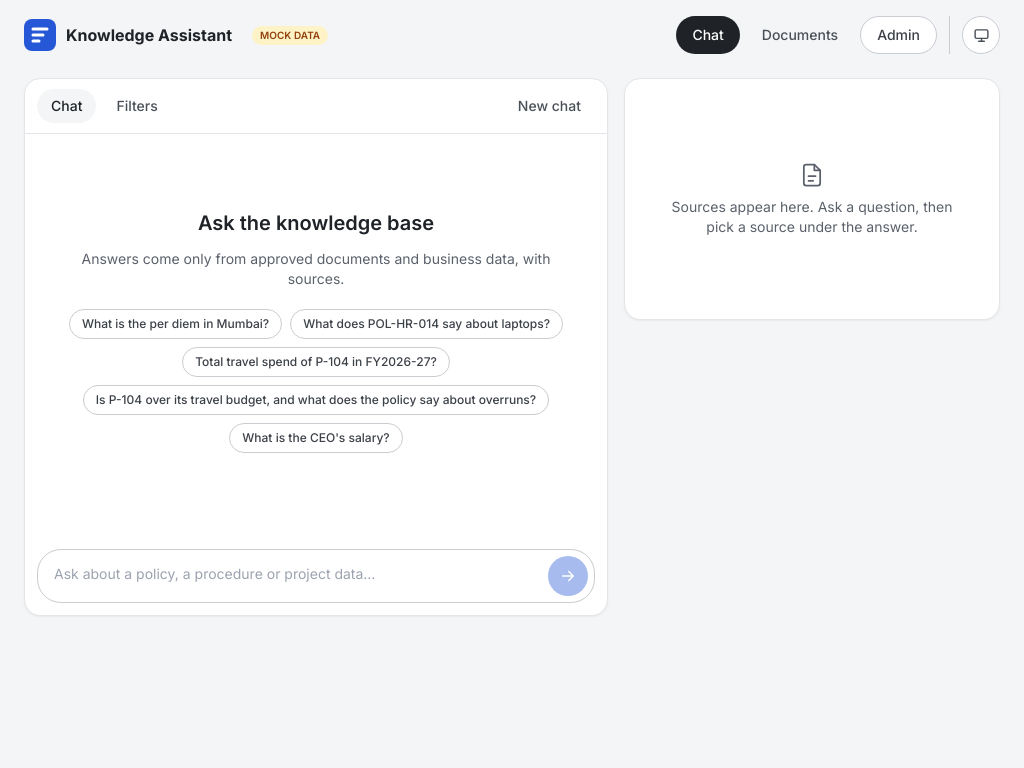
chat end to end on mock data › streams an answer and switches the viewer between sources
Type "What is the per diem in Mumbai?" into the text box named "Question" at (297, 576), box [54,556,540,596]
Then press Enter
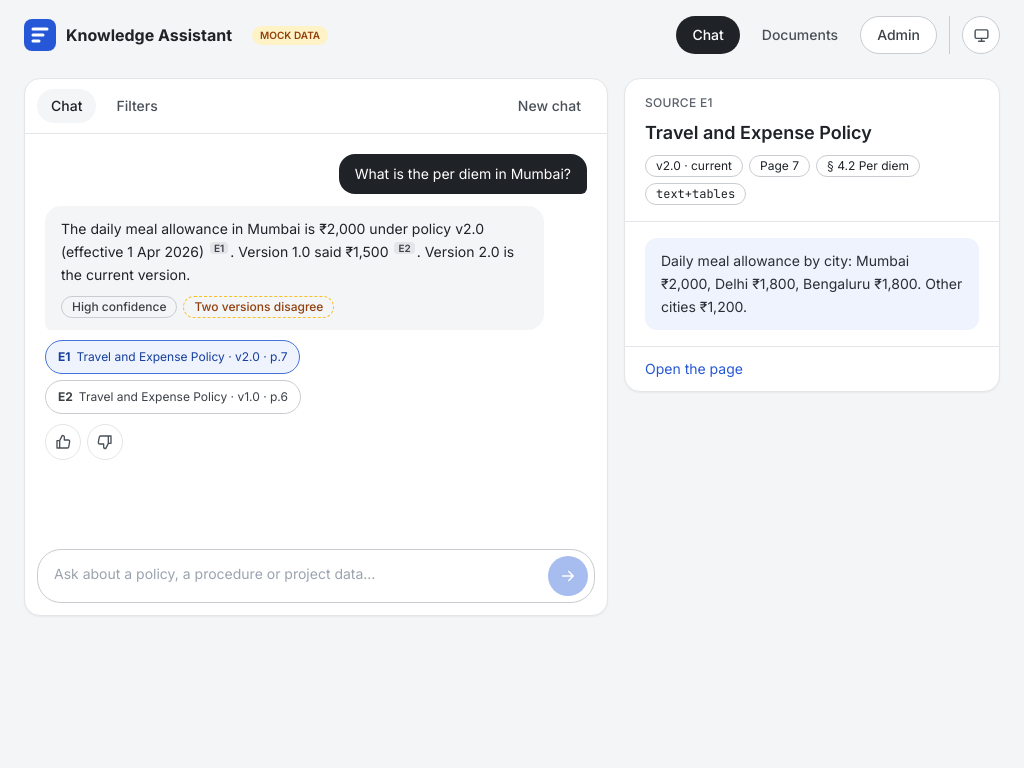
Expected: the text "Two versions disagree" is shown, [184,296,334,318]
Expected: the element named "Source viewer" shows "v2.0 · current", [624,78,1000,392]
Click the button "E2 Travel and Expense Policy · v1.0 · p.6" at (173, 397), box [45,380,301,414]
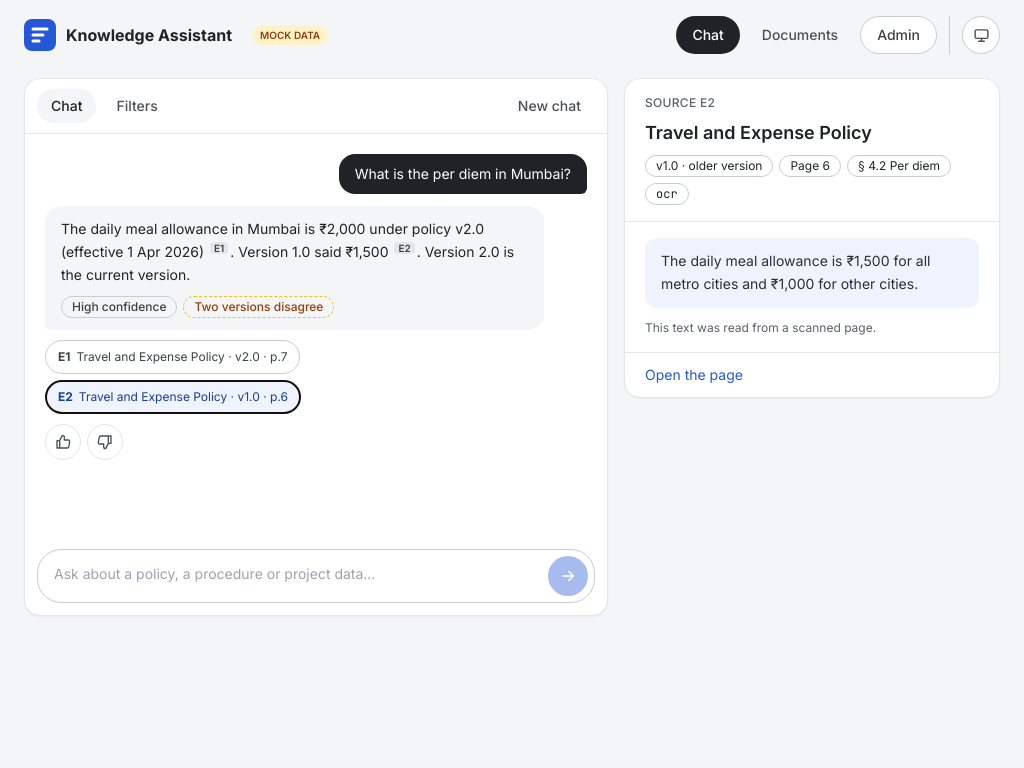
Expected: the element named "Source viewer" shows "v1.0 · older version", [624,78,1000,398]
